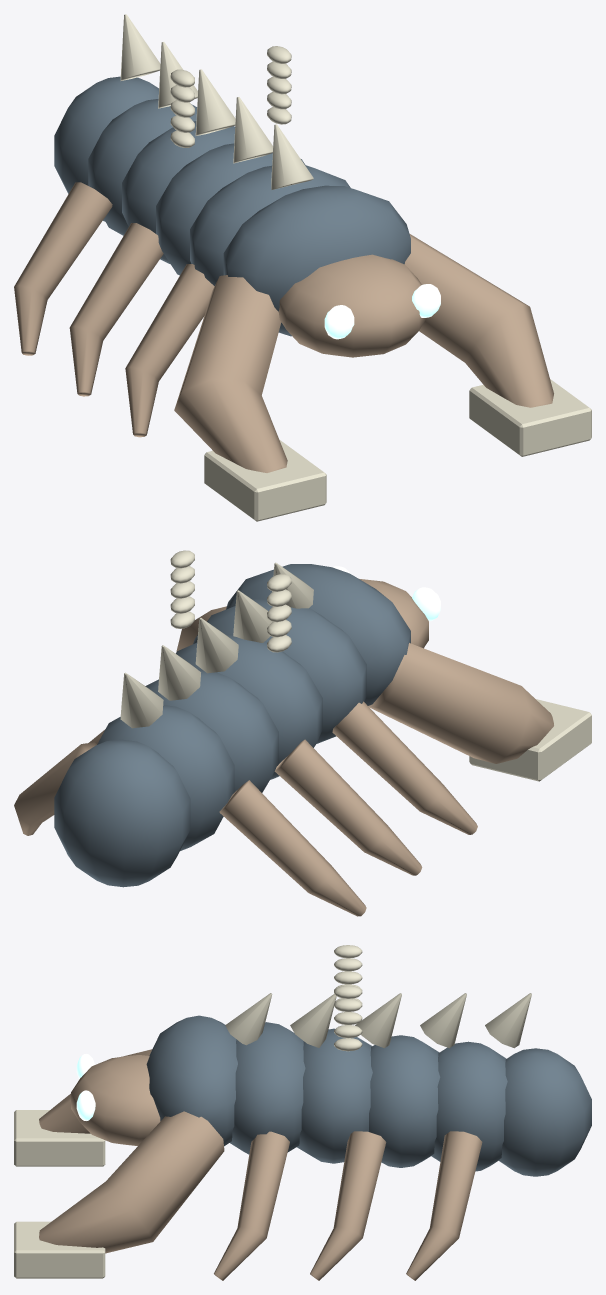
The model's file is alien_stalker.glb.
3 views of the same model, one above another, from view 1: azimuth 30°, elevation 25°; view 2: azimuth 150°, elevation 25°; view 3: azimuth 270°, elevation 25° (orthographic). The views are drawn at different scales.
Visible parts, largest first — view 1: foreclaw_10, carapace_1, foreclaw_15, head_7, rear_digging_leg_14, rear_digging_leg_13, rear_digging_leg_12, foreclaw_shovel_16, foreclaw_shovel_11, carapace_2, carapace_3, carapace_6 (+9 smaller); view 2: carapace_6, foreclaw_10, carapace_1, carapace_5, carapace_2, carapace_4, carapace_3, rear_digging_leg_13, rear_digging_leg_14, rear_digging_leg_12, foreclaw_shovel_11, rear_digging_leg_19 (+8 smaller); view 3: foreclaw_15, carapace_6, carapace_1, carapace_4, carapace_2, carapace_3, carapace_5, head_7, rear_digging_leg_19, rear_digging_leg_18, rear_digging_leg_17, foreclaw_shovel_16 (+8 smaller).
Part boxes in pixels (left/top/right/bottom): foreclaw_10: left=174, top=275, right=287, bottom=472; carapace_1: left=223, top=185, right=410, bottom=336; foreclaw_15: left=404, top=234, right=553, bottom=407; head_7: left=278, top=254, right=426, bottom=357; rear_digging_leg_14: left=14, top=182, right=112, bottom=355; rear_digging_leg_13: left=69, top=223, right=163, bottom=396; rear_digging_leg_12: left=125, top=264, right=214, bottom=437; foreclaw_shovel_16: left=469, top=379, right=591, bottom=456; foreclaw_shovel_11: left=204, top=439, right=326, bottom=521; carapace_2: left=190, top=165, right=350, bottom=285; carapace_3: left=156, top=143, right=305, bottom=275; carapace_6: left=54, top=76, right=158, bottom=221; carapace_6: left=54, top=739, right=190, bottom=887; foreclaw_10: left=368, top=643, right=553, bottom=763; carapace_1: left=226, top=564, right=410, bottom=705; carapace_5: left=97, top=705, right=234, bottom=850; carapace_2: left=193, top=599, right=366, bottom=743; carapace_4: left=145, top=669, right=278, bottom=792; carapace_3: left=176, top=634, right=322, bottom=779; rear_digging_leg_13: left=274, top=739, right=422, bottom=875; rear_digging_leg_14: left=219, top=780, right=366, bottom=916; rear_digging_leg_12: left=332, top=701, right=477, bottom=834; foreclaw_shovel_11: left=469, top=699, right=591, bottom=781; rear_digging_leg_19: left=14, top=742, right=97, bottom=835; foreclaw_15: left=39, top=1111, right=224, bottom=1253; carapace_6: left=498, top=1048, right=591, bottom=1176; carapace_1: left=146, top=1015, right=237, bottom=1146; carapace_4: left=369, top=1035, right=440, bottom=1167; carapace_2: left=230, top=1022, right=305, bottom=1154; carapace_3: left=297, top=1028, right=372, bottom=1163; carapace_5: left=431, top=1041, right=507, bottom=1171; head_7: left=71, top=1055, right=160, bottom=1145; rear_digging_leg_19: left=406, top=1131, right=482, bottom=1280; rear_digging_leg_18: left=310, top=1131, right=386, bottom=1280; rear_digging_leg_17: left=214, top=1131, right=289, bottom=1280; foreclaw_shovel_16: left=14, top=1221, right=105, bottom=1278.
Size of the model in its own units: 1.44 by 1.12 by 2.4.
